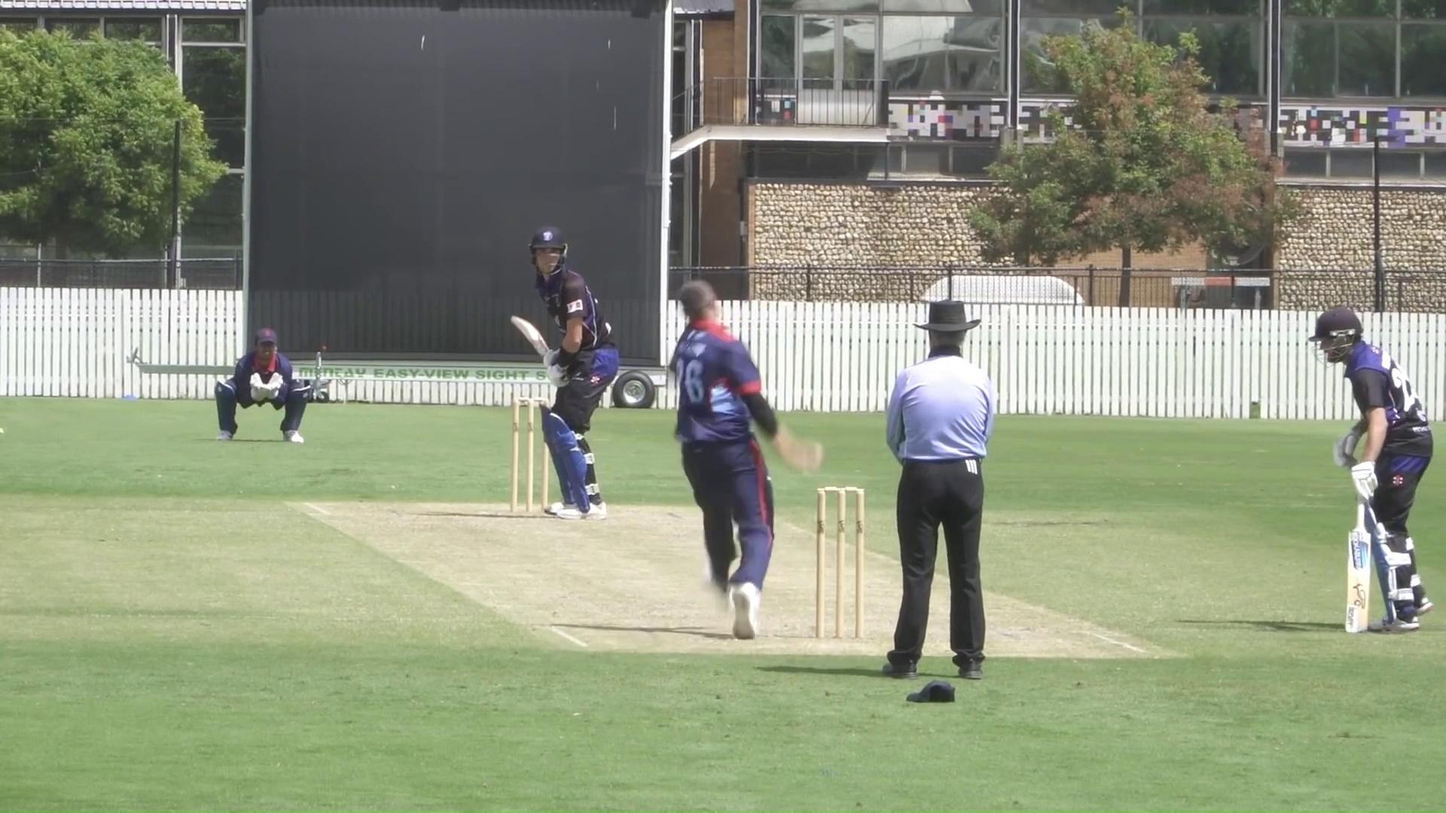ball: (794, 442, 830, 473)
